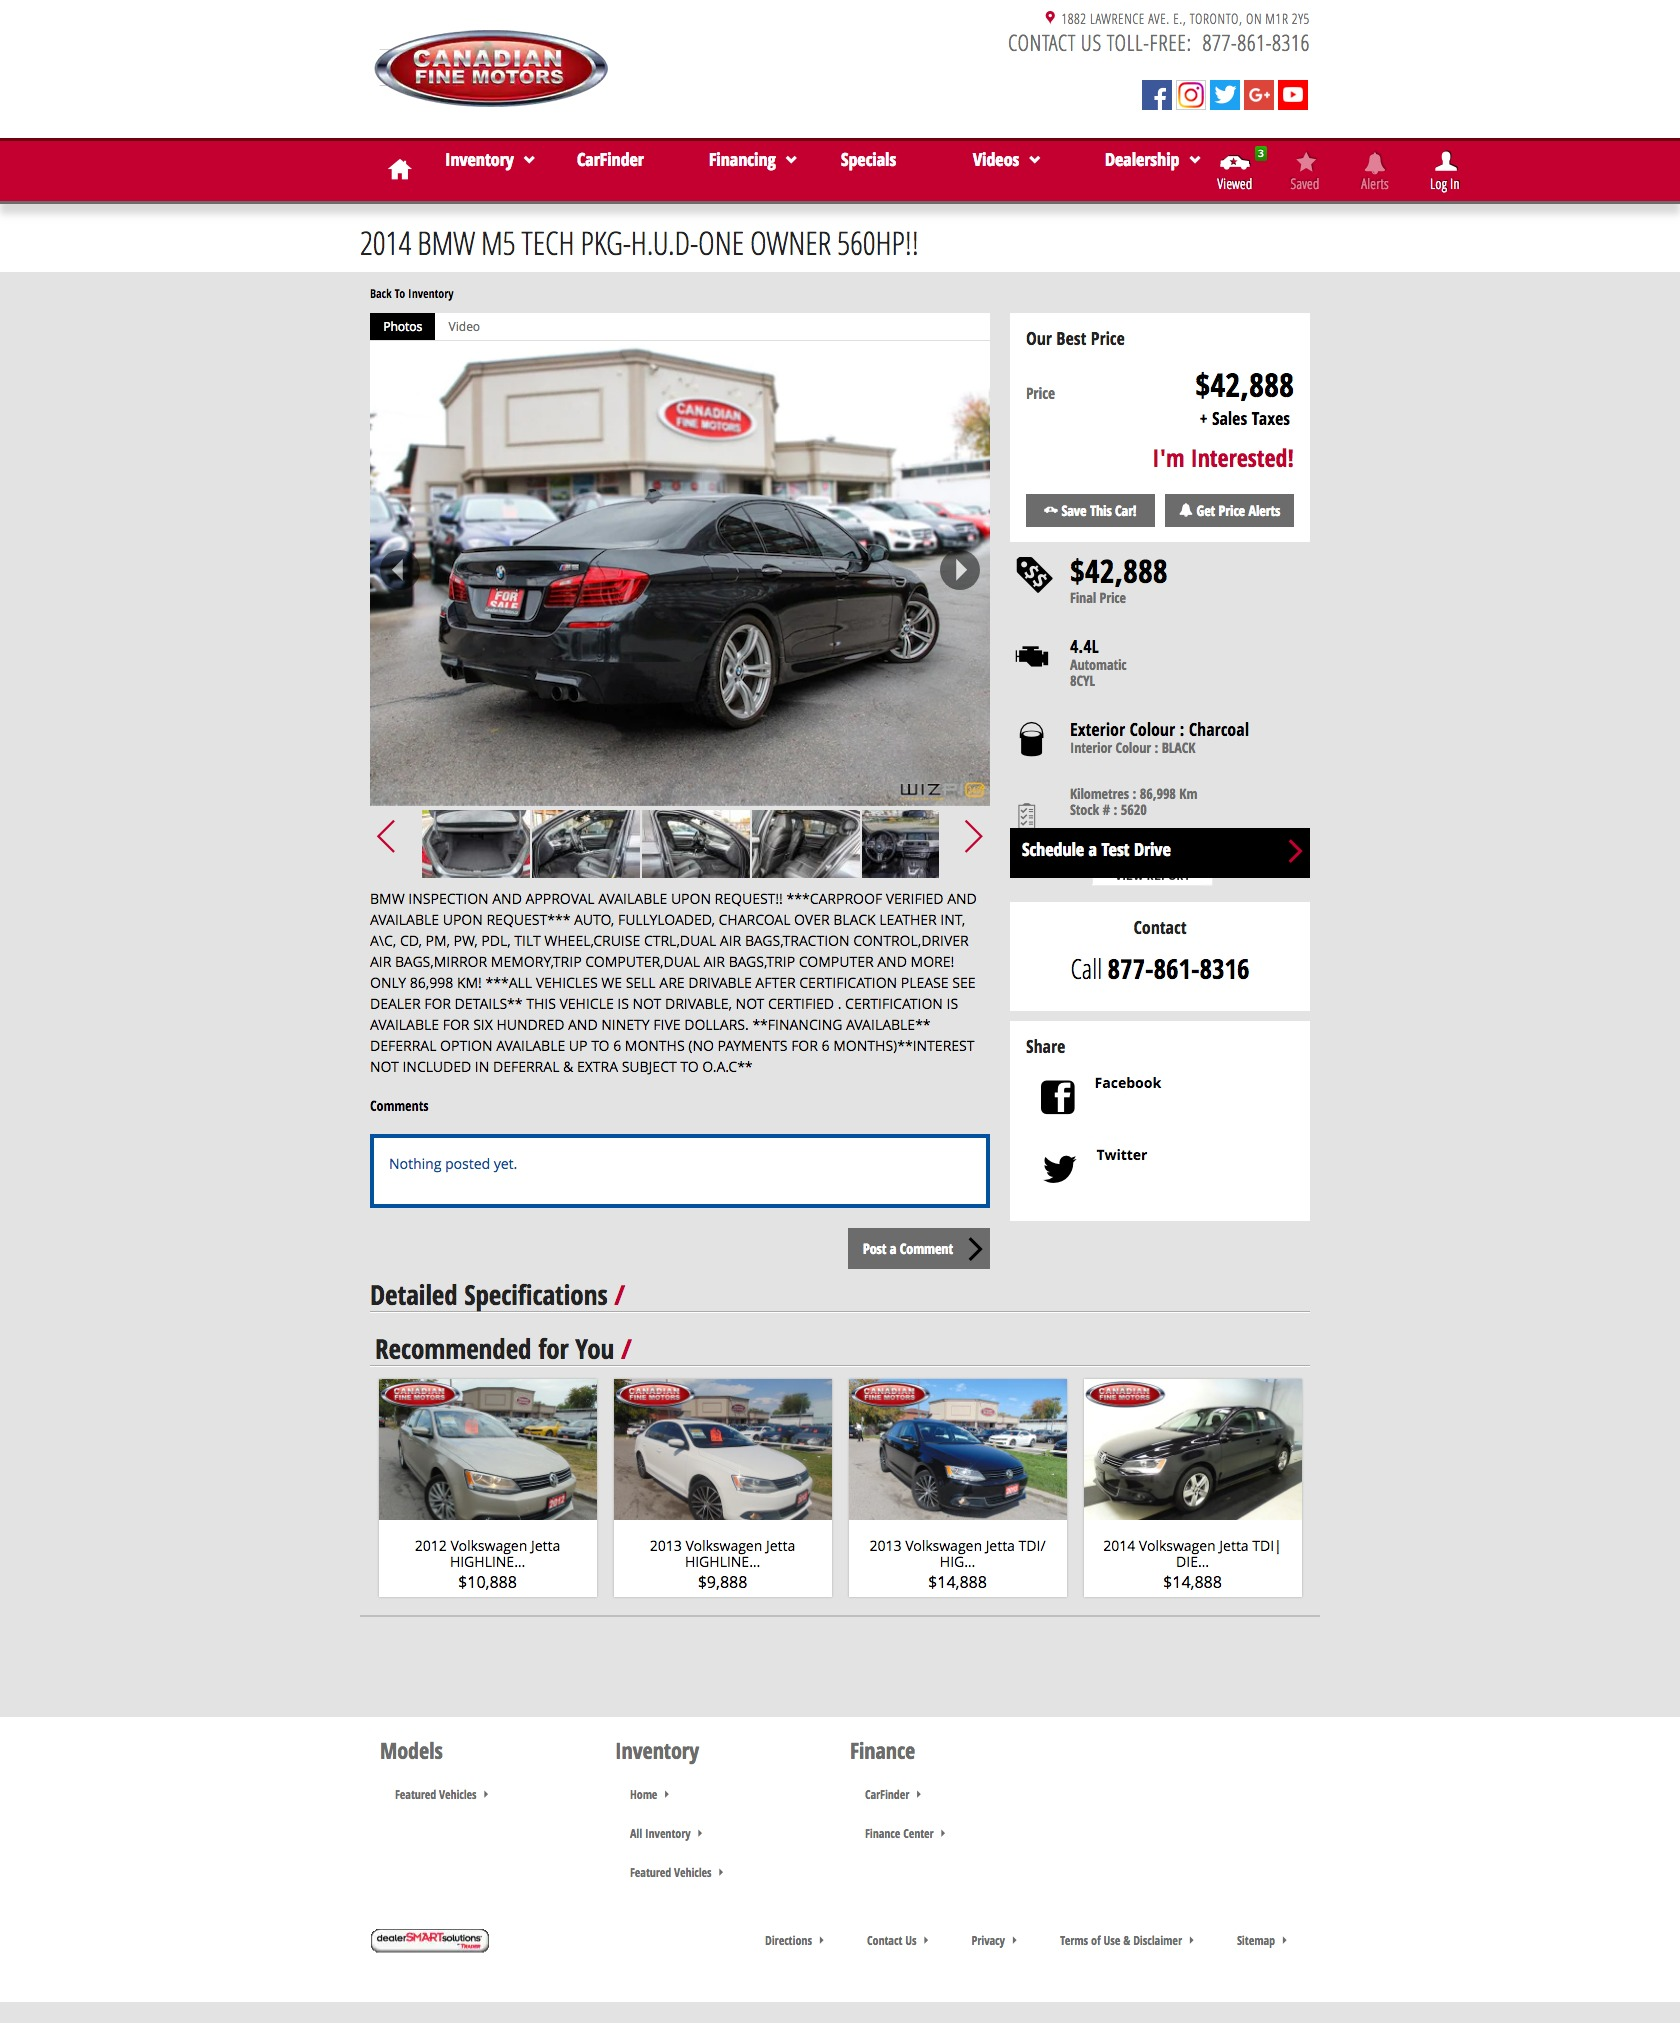car: (961, 818, 986, 855)
